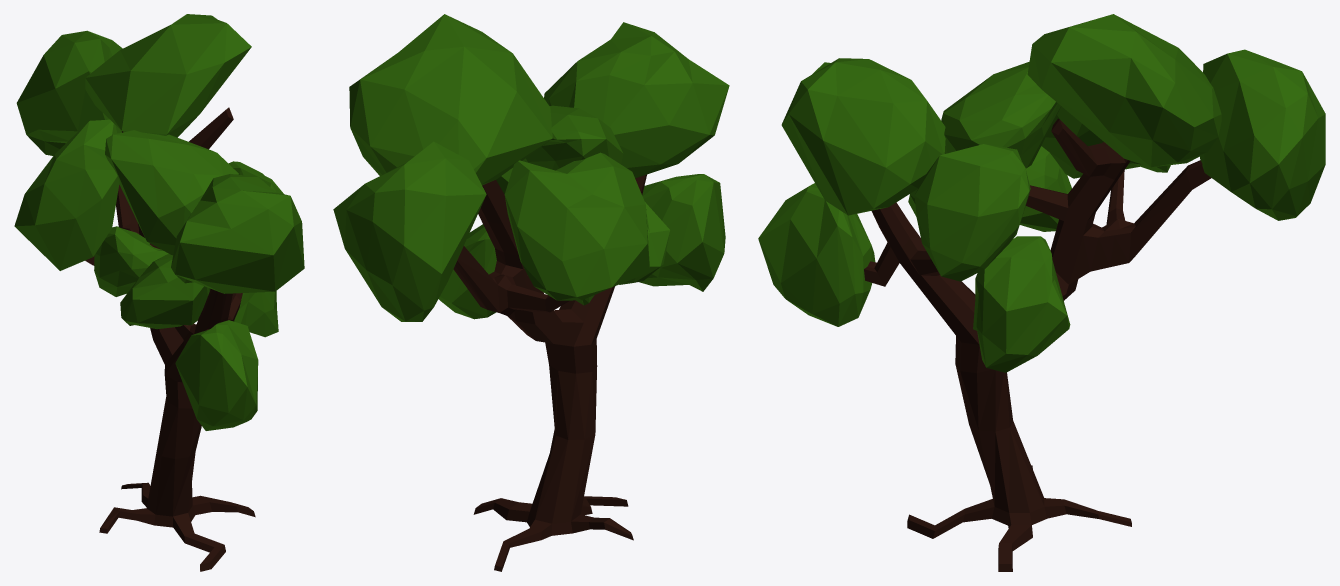
Rendered from big_tree_green.obj.
3 renders of one model, left to right at view 1: azimuth 30°, elevation 25°; view 2: azimuth 150°, elevation 25°; view 3: azimuth 270°, elevation 25°, orthographic. The views are drawn at different scales.
Parts seen in each view (by area): view 1: t1-green_Cylinder.002; view 2: t1-green_Cylinder.002; view 3: t1-green_Cylinder.002.
Boxes of the visible parts, x1,y1,x2,y2 form: t1-green_Cylinder.002: (14,14,304,571); t1-green_Cylinder.002: (333,14,729,571); t1-green_Cylinder.002: (758,14,1325,571).
Bounding box in the file's own units: 6.06 × 11.75 × 11.01.
